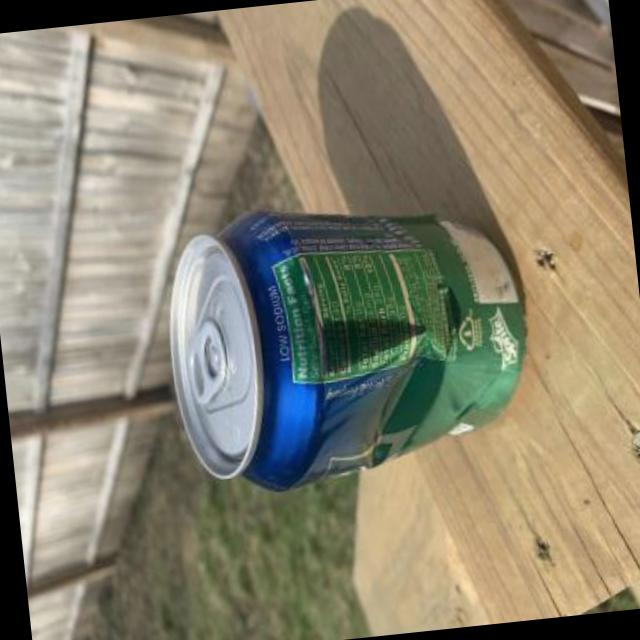metal: (168, 215, 521, 491)
